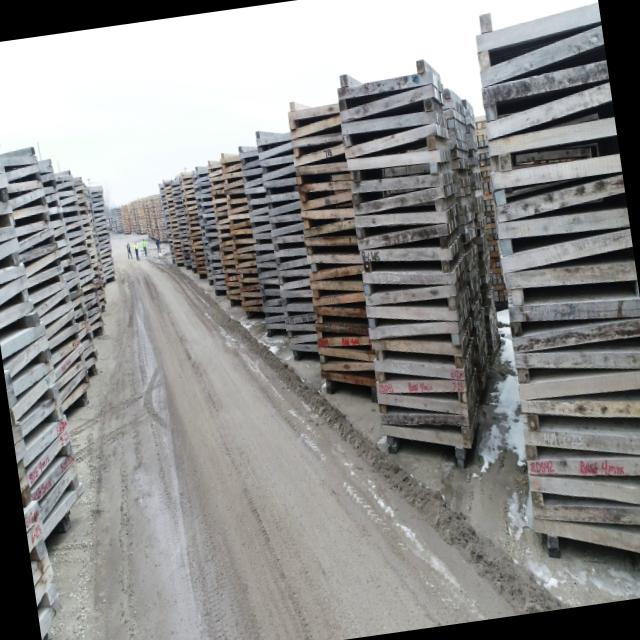stack: (330, 51, 500, 484)
